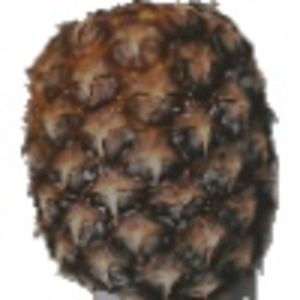abacaxi: (20, 5, 285, 297)
